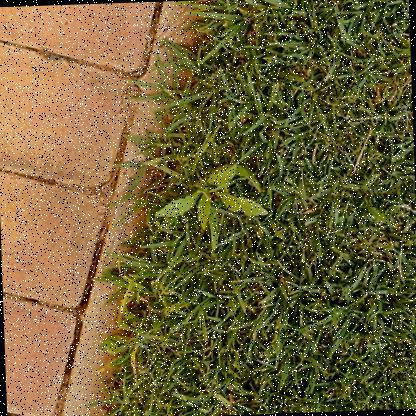Weeds: (152, 165, 270, 233)
